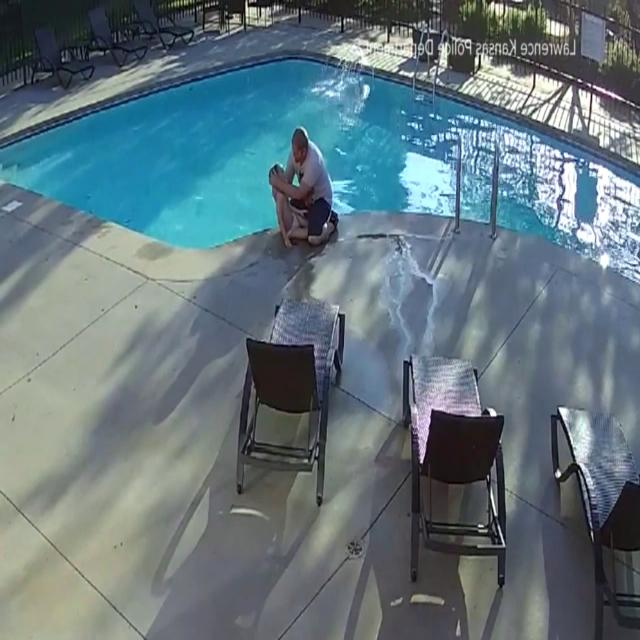adult: (282, 127, 340, 249)
child: (269, 164, 307, 250)
